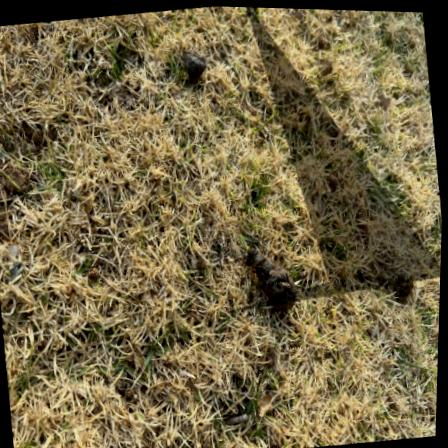dog-poop: (237, 223, 301, 319)
